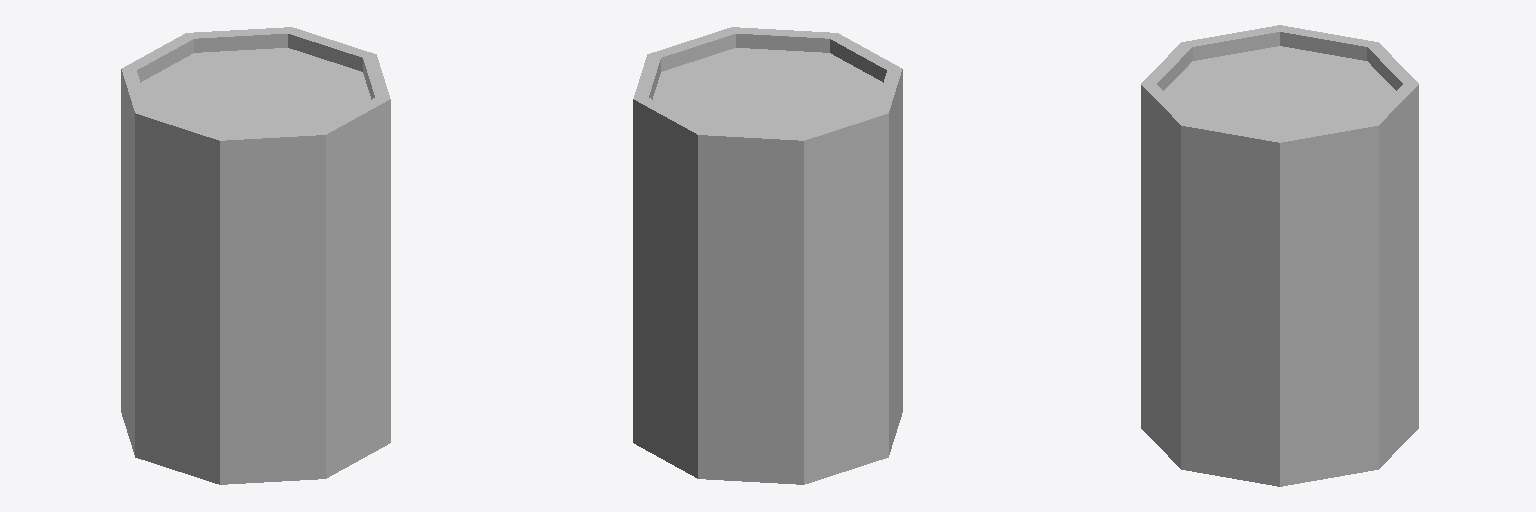
File: red_barrel.obj
3 views of the same model, side by side, from view 1: azimuth 30°, elevation 25°; view 2: azimuth 150°, elevation 25°; view 3: azimuth 270°, elevation 25° (orthographic).
Parts seen in each view (by area): view 1: wTube; view 2: wTube; view 3: wTube.
Boxes of the visible parts, <box> form: wTube: <box>121,27,390,484</box>; wTube: <box>633,27,902,484</box>; wTube: <box>1141,25,1418,486</box>.
Bounding box in the file's own units: 1.61 × 2.19 × 1.61.